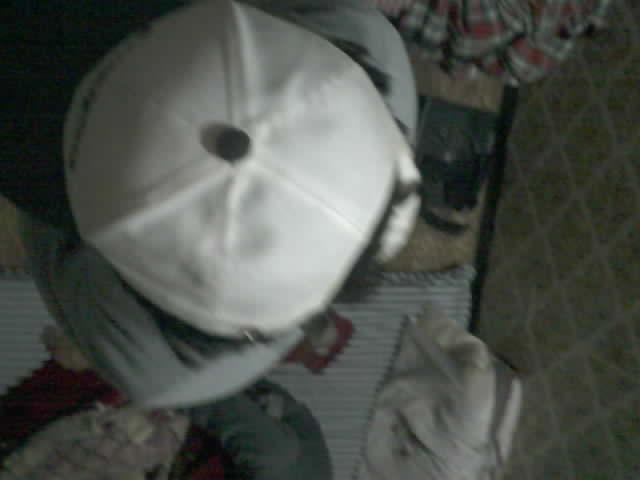cap: (60, 0, 425, 342)
